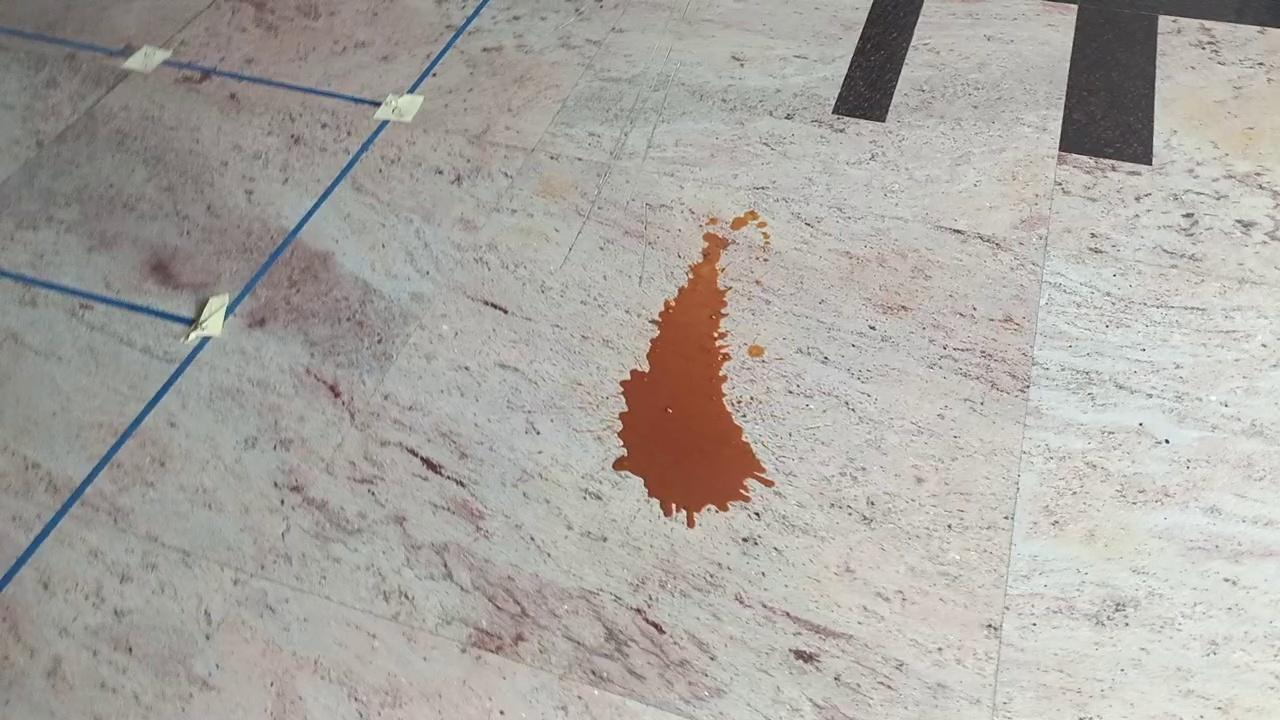dirty_floor: (615, 212, 778, 527)
